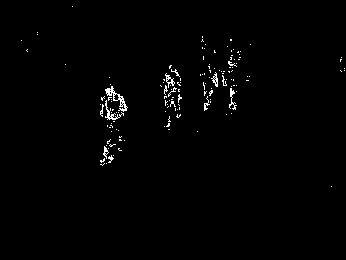person: (99, 85, 127, 165), (162, 65, 183, 130), (222, 63, 248, 110), (199, 63, 219, 111)
